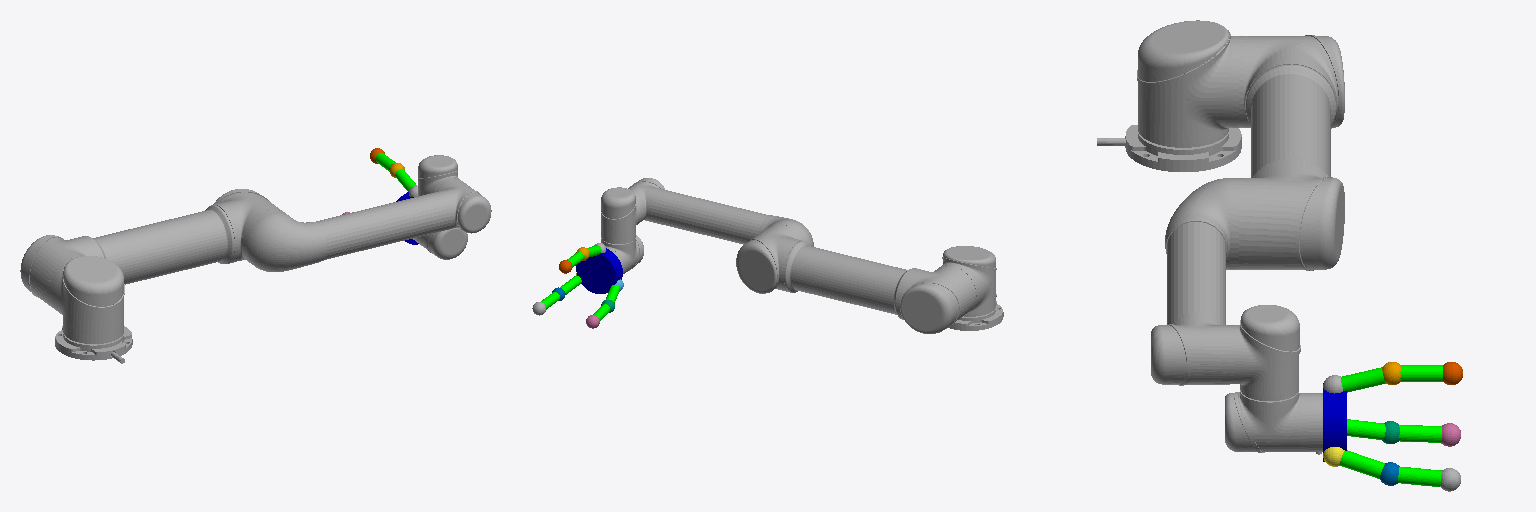
robot.urdf — ur5_3f2j:
<?xml version='1.0' encoding='UTF-8'?>
<robot name="ur5_3f2j">
  <link name="base_link">
    <inertial>
      <origin xyz="0.0 0.0 0.0" rpy="0.0 0.0 0.0"/>
      <mass value="4.0"/>
      <inertia ixx="0.00443333156" ixy="0.0" ixz="0.0" iyy="0.00443333156" iyz="0.0" izz="0.0072"/>
    </inertial>
    <visual>
      <geometry>
        <mesh filename="meshes/ur5/visual/base.obj"/>
      </geometry>
      <material name="LightGrey"/>
      <origin xyz="0.0 0.0 0.0" rpy="0.0 -0.0 0.0"/>
    </visual>
    <collision>
      <geometry>
        <mesh filename="meshes/ur5/collision/base.stl"/>
      </geometry>
      <origin xyz="0.0 0.0 0.0" rpy="0.0 -0.0 0.0"/>
    </collision>
  </link>
  <link name="shoulder_link">
    <inertial>
      <origin xyz="0.0 0.0 0.0" rpy="0.0 0.0 0.0"/>
      <mass value="3.7"/>
      <inertia ixx="0.010267495893" ixy="0.0" ixz="0.0" iyy="0.010267495893" iyz="0.0" izz="0.00666"/>
    </inertial>
    <visual>
      <geometry>
        <mesh filename="meshes/ur5/visual/shoulder.obj"/>
      </geometry>
      <material name="LightGrey"/>
      <origin xyz="0.0 0.0 0.0" rpy="0.0 -0.0 0.0"/>
    </visual>
    <collision>
      <geometry>
        <mesh filename="meshes/ur5/collision/shoulder.stl"/>
      </geometry>
      <origin xyz="0.0 0.0 0.0" rpy="0.0 -0.0 0.0"/>
    </collision>
  </link>
  <link name="upper_arm_link">
    <inertial>
      <origin xyz="0.0 0.0 0.28" rpy="0.0 0.0 0.0"/>
      <mass value="8.393"/>
      <inertia ixx="0.22689067591" ixy="0.0" ixz="0.0" iyy="0.22689067591" iyz="0.0" izz="0.0151074"/>
    </inertial>
    <visual>
      <geometry>
        <mesh filename="meshes/ur5/visual/upperarm.obj"/>
      </geometry>
      <material name="LightGrey"/>
      <origin xyz="0.0 0.0 0.0" rpy="0.0 -0.0 0.0"/>
    </visual>
    <collision>
      <geometry>
        <mesh filename="meshes/ur5/collision/upperarm.stl"/>
      </geometry>
      <origin xyz="0.0 0.0 0.0" rpy="0.0 -0.0 0.0"/>
    </collision>
  </link>
  <link name="forearm_link">
    <inertial>
      <origin xyz="0.0 0.0 0.25" rpy="0.0 0.0 0.0"/>
      <mass value="2.275"/>
      <inertia ixx="0.049443313556" ixy="0.0" ixz="0.0" iyy="0.049443313556" iyz="0.0" izz="0.004095"/>
    </inertial>
    <visual>
      <geometry>
        <mesh filename="meshes/ur5/visual/forearm.obj"/>
      </geometry>
      <material name="LightGrey"/>
      <origin xyz="0.0 0.0 0.0" rpy="0.0 -0.0 0.0"/>
    </visual>
    <collision>
      <geometry>
        <mesh filename="meshes/ur5/collision/forearm.stl"/>
      </geometry>
      <origin xyz="0.0 0.0 0.0" rpy="0.0 -0.0 0.0"/>
    </collision>
  </link>
  <link name="wrist_1_link">
    <inertial>
      <origin xyz="0.0 0.0 0.0" rpy="0.0 0.0 0.0"/>
      <mass value="1.219"/>
      <inertia ixx="0.111172755531" ixy="0.0" ixz="0.0" iyy="0.111172755531" iyz="0.0" izz="0.21942"/>
    </inertial>
    <visual>
      <geometry>
        <mesh filename="meshes/ur5/visual/wrist1.obj"/>
      </geometry>
      <material name="LightGrey"/>
      <origin xyz="0.0 0.0 0.0" rpy="0.0 -0.0 0.0"/>
    </visual>
    <collision>
      <geometry>
        <mesh filename="meshes/ur5/collision/wrist1.stl"/>
      </geometry>
      <origin xyz="0.0 0.0 0.0" rpy="0.0 -0.0 0.0"/>
    </collision>
  </link>
  <link name="wrist_2_link">
    <inertial>
      <origin xyz="0.0 0.0 0.0" rpy="0.0 0.0 0.0"/>
      <mass value="1.219"/>
      <inertia ixx="0.111172755531" ixy="0.0" ixz="0.0" iyy="0.111172755531" iyz="0.0" izz="0.21942"/>
    </inertial>
    <visual>
      <geometry>
        <mesh filename="meshes/ur5/visual/wrist2.obj"/>
      </geometry>
      <material name="LightGrey"/>
      <origin xyz="0.0 0.0 0.0" rpy="0.0 -0.0 0.0"/>
    </visual>
    <collision>
      <geometry>
        <mesh filename="meshes/ur5/collision/wrist2.stl"/>
      </geometry>
      <origin xyz="0.0 0.0 0.0" rpy="0.0 -0.0 0.0"/>
    </collision>
  </link>
  <link name="wrist_3_link">
    <inertial>
      <origin xyz="0.0 0.0 0.0" rpy="0.0 0.0 0.0"/>
      <mass value="0.1879"/>
      <inertia ixx="0.0171364731454" ixy="0.0" ixz="0.0" iyy="0.0171364731454" iyz="0.0" izz="0.033822"/>
    </inertial>
    <visual>
      <geometry>
        <mesh filename="meshes/ur5/visual/wrist3.obj"/>
      </geometry>
      <material name="LightGrey"/>
      <origin xyz="0.0 0.0 0.0" rpy="0.0 -0.0 0.0"/>
    </visual>
    <collision>
      <geometry>
        <mesh filename="meshes/ur5/collision/wrist3.stl"/>
      </geometry>
      <origin xyz="0.0 0.0 0.0" rpy="0.0 -0.0 0.0"/>
    </collision>
  </link>
  <link name="ee_link">
    <inertial>
      <origin xyz="0.0 0.0 0.0" rpy="0.0 0.0 0.0"/>
      <mass value="0.0"/>
      <inertia ixx="0.0" ixy="0.0" ixz="0.0" iyy="0.0" iyz="0.0" izz="0.0"/>
    </inertial>
    <collision>
      <geometry>
        <box size="0.01 0.01 0.01"/>
      </geometry>
      <origin xyz="-0.01 0.0 0.0" rpy="0.0 0.0 0.0"/>
    </collision>
  </link>
  <link name="palm">
    <inertial>
      <origin xyz="0.0 0.0 0.0" rpy="0.0 -0.0 0.0"/>
      <mass value="1.0"/>
      <inertia ixx="1.0" ixy="0.0" ixz="0.0" iyy="1.0" iyz="0.0" izz="1.0"/>
    </inertial>
    <visual>
      <geometry>
        <cylinder radius="0.05" length="0.03"/>
      </geometry>
      <material name="blue"/>
      <origin xyz="0.0 0.0 0.0" rpy="0.0 -0.0 0.0"/>
    </visual>
    <collision>
      <geometry>
        <cylinder radius="0.05" length="0.03"/>
      </geometry>
      <origin xyz="0.0 0.0 0.0" rpy="0.0 0.0 0.0"/>
    </collision>
  </link>
  <link name="f11">
    <inertial>
      <origin xyz="0.0 0.0 0.0" rpy="0.0 -0.0 0.0"/>
      <mass value="1.0"/>
      <inertia ixx="1.0" ixy="0.0" ixz="0.0" iyy="1.0" iyz="0.0" izz="1.0"/>
    </inertial>
    <visual>
      <geometry>
        <cylinder radius="0.01068100461919942" length="0.075"/>
      </geometry>
      <material name="green"/>
      <origin xyz="0.0 0.0 0.0375" rpy="0.0 -0.0 0.0"/>
    </visual>
    <collision>
      <geometry>
        <cylinder radius="0.01068100461919942" length="0.075"/>
      </geometry>
      <origin xyz="0.0 0.0 0.025" rpy="0.0 0.0 0.0"/>
    </collision>
  </link>
  <link name="f12">
    <inertial>
      <origin xyz="0.0 0.0 0.0" rpy="0.0 -0.0 0.0"/>
      <mass value="1.0"/>
      <inertia ixx="1.0" ixy="0.0" ixz="0.0" iyy="1.0" iyz="0.0" izz="1.0"/>
    </inertial>
    <visual>
      <geometry>
        <cylinder radius="0.01068100461919942" length="0.075"/>
      </geometry>
      <material name="green"/>
      <origin xyz="0.0 0.0 0.0375" rpy="0.0 -0.0 0.0"/>
    </visual>
    <collision>
      <geometry>
        <cylinder radius="0.01068100461919942" length="0.075"/>
      </geometry>
      <origin xyz="0.0 0.0 0.025" rpy="0.0 0.0 0.0"/>
    </collision>
  </link>
  <link name="f21">
    <inertial>
      <origin xyz="0.0 0.0 0.0" rpy="0.0 -0.0 0.0"/>
      <mass value="1.0"/>
      <inertia ixx="1.0" ixy="0.0" ixz="0.0" iyy="1.0" iyz="0.0" izz="1.0"/>
    </inertial>
    <visual>
      <geometry>
        <cylinder radius="0.01068100461919942" length="0.075"/>
      </geometry>
      <material name="green"/>
      <origin xyz="0.0 0.0 0.0375" rpy="0.0 -0.0 0.0"/>
    </visual>
    <collision>
      <geometry>
        <cylinder radius="0.01068100461919942" length="0.075"/>
      </geometry>
      <origin xyz="0.0 0.0 0.025" rpy="0.0 0.0 0.0"/>
    </collision>
  </link>
  <link name="f22">
    <inertial>
      <origin xyz="0.0 0.0 0.0" rpy="0.0 -0.0 0.0"/>
      <mass value="1.0"/>
      <inertia ixx="1.0" ixy="0.0" ixz="0.0" iyy="1.0" iyz="0.0" izz="1.0"/>
    </inertial>
    <visual>
      <geometry>
        <cylinder radius="0.01068100461919942" length="0.075"/>
      </geometry>
      <material name="green"/>
      <origin xyz="0.0 0.0 0.0375" rpy="0.0 -0.0 0.0"/>
    </visual>
    <collision>
      <geometry>
        <cylinder radius="0.01068100461919942" length="0.075"/>
      </geometry>
      <origin xyz="0.0 0.0 0.025" rpy="0.0 0.0 0.0"/>
    </collision>
  </link>
  <link name="f31">
    <inertial>
      <origin xyz="0.0 0.0 0.0" rpy="0.0 -0.0 0.0"/>
      <mass value="1.0"/>
      <inertia ixx="1.0" ixy="0.0" ixz="0.0" iyy="1.0" iyz="0.0" izz="1.0"/>
    </inertial>
    <visual>
      <geometry>
        <cylinder radius="0.01068100461919942" length="0.075"/>
      </geometry>
      <material name="green"/>
      <origin xyz="0.0 0.0 0.0375" rpy="0.0 -0.0 0.0"/>
    </visual>
    <collision>
      <geometry>
        <cylinder radius="0.01068100461919942" length="0.075"/>
      </geometry>
      <origin xyz="0.0 0.0 0.025" rpy="0.0 0.0 0.0"/>
    </collision>
  </link>
  <link name="f32">
    <inertial>
      <origin xyz="0.0 0.0 0.0" rpy="0.0 -0.0 0.0"/>
      <mass value="1.0"/>
      <inertia ixx="1.0" ixy="0.0" ixz="0.0" iyy="1.0" iyz="0.0" izz="1.0"/>
    </inertial>
    <visual>
      <geometry>
        <cylinder radius="0.01068100461919942" length="0.075"/>
      </geometry>
      <material name="green"/>
      <origin xyz="0.0 0.0 0.0375" rpy="0.0 -0.0 0.0"/>
    </visual>
    <collision>
      <geometry>
        <cylinder radius="0.01068100461919942" length="0.075"/>
      </geometry>
      <origin xyz="0.0 0.0 0.025" rpy="0.0 0.0 0.0"/>
    </collision>
  </link>
  <link name="f11_base">
    <inertial>
      <origin xyz="0.0 0.0 0.0" rpy="0.0 0.0 0.0"/>
      <mass value="0.01"/>
      <inertia ixx="0.0" ixy="0.0" ixz="0.0" iyy="0.0" iyz="0.0" izz="0.0"/>
    </inertial>
    <visual>
      <geometry>
        <sphere radius="0.015"/>
      </geometry>
      <origin xyz="0.0 0.0 0.0" rpy="0.0 -0.0 0.0"/>
    </visual>
  </link>
  <link name="f12_slot">
    <inertial>
      <origin xyz="0.0 0.0 0.0" rpy="0.0 0.0 0.0"/>
      <mass value="0.01"/>
      <inertia ixx="0.0" ixy="0.0" ixz="0.0" iyy="0.0" iyz="0.0" izz="0.0"/>
    </inertial>
    <visual>
      <geometry>
        <sphere radius="0.015"/>
      </geometry>
      <origin xyz="0.0 0.0 0.0" rpy="0.0 -0.0 0.0"/>
    </visual>
  </link>
  <link name="f21_base">
    <inertial>
      <origin xyz="0.0 0.0 0.0" rpy="0.0 0.0 0.0"/>
      <mass value="0.01"/>
      <inertia ixx="0.0" ixy="0.0" ixz="0.0" iyy="0.0" iyz="0.0" izz="0.0"/>
    </inertial>
    <visual>
      <geometry>
        <sphere radius="0.015"/>
      </geometry>
      <origin xyz="0.0 0.0 0.0" rpy="0.0 -0.0 0.0"/>
    </visual>
  </link>
  <link name="f22_slot">
    <inertial>
      <origin xyz="0.0 0.0 0.0" rpy="0.0 0.0 0.0"/>
      <mass value="0.01"/>
      <inertia ixx="0.0" ixy="0.0" ixz="0.0" iyy="0.0" iyz="0.0" izz="0.0"/>
    </inertial>
    <visual>
      <geometry>
        <sphere radius="0.015"/>
      </geometry>
      <origin xyz="0.0 0.0 0.0" rpy="0.0 -0.0 0.0"/>
    </visual>
  </link>
  <link name="f31_base">
    <inertial>
      <origin xyz="0.0 0.0 0.0" rpy="0.0 0.0 0.0"/>
      <mass value="0.0"/>
      <inertia ixx="0.0" ixy="0.0" ixz="0.0" iyy="0.0" iyz="0.0" izz="0.0"/>
    </inertial>
    <visual>
      <geometry>
        <sphere radius="0.015"/>
      </geometry>
      <origin xyz="0.0 0.0 0.0" rpy="0.0 -0.0 0.0"/>
    </visual>
  </link>
  <link name="f32_slot">
    <inertial>
      <origin xyz="0.0 0.0 0.0" rpy="0.0 0.0 0.0"/>
      <mass value="0.0"/>
      <inertia ixx="0.0" ixy="0.0" ixz="0.0" iyy="0.0" iyz="0.0" izz="0.0"/>
    </inertial>
    <visual>
      <geometry>
        <sphere radius="0.015"/>
      </geometry>
      <origin xyz="0.0 0.0 0.0" rpy="0.0 -0.0 0.0"/>
    </visual>
  </link>
  <link name="f13_slot">
    <inertial>
      <origin xyz="0.0 0.0 0.0" rpy="0.0 0.0 0.0"/>
      <mass value="0.0"/>
      <inertia ixx="0.0" ixy="0.0" ixz="0.0" iyy="0.0" iyz="0.0" izz="0.0"/>
    </inertial>
    <visual>
      <geometry>
        <sphere radius="0.015"/>
      </geometry>
      <origin xyz="0.0 0.0 0.0" rpy="0.0 -0.0 0.0"/>
    </visual>
  </link>
  <link name="f23_slot">
    <inertial>
      <origin xyz="0.0 0.0 0.0" rpy="0.0 0.0 0.0"/>
      <mass value="0.0"/>
      <inertia ixx="0.0" ixy="0.0" ixz="0.0" iyy="0.0" iyz="0.0" izz="0.0"/>
    </inertial>
    <visual>
      <geometry>
        <sphere radius="0.015"/>
      </geometry>
      <origin xyz="0.0 0.0 0.0" rpy="0.0 -0.0 0.0"/>
    </visual>
  </link>
  <link name="f33_slot">
    <inertial>
      <origin xyz="0.0 0.0 0.0" rpy="0.0 0.0 0.0"/>
      <mass value="0.0"/>
      <inertia ixx="0.0" ixy="0.0" ixz="0.0" iyy="0.0" iyz="0.0" izz="0.0"/>
    </inertial>
    <visual>
      <geometry>
        <sphere radius="0.015"/>
      </geometry>
      <origin xyz="0.0 0.0 0.0" rpy="0.0 -0.0 0.0"/>
    </visual>
  </link>
  <joint name="shoulder_pan_joint" type="revolute">
    <dynamics damping="0.0" friction="0.0"/>
    <limit effort="150.0" velocity="3.15" lower="-3.14159265359" upper="3.14159265359"/>
    <parent link="base_link"/>
    <child link="shoulder_link"/>
    <axis xyz="0. 0. 1."/>
    <origin xyz="0.0 0.0 0.089159" rpy="0.0 0.0 0.0"/>
  </joint>
  <joint name="shoulder_lift_joint" type="revolute">
    <dynamics damping="0.0" friction="0.0"/>
    <limit effort="150.0" velocity="3.15" lower="-3.14159265359" upper="3.14159265359"/>
    <parent link="shoulder_link"/>
    <child link="upper_arm_link"/>
    <axis xyz="0. 1. 0."/>
    <origin xyz="0.0 0.13585 0.0" rpy="0.0 1.5707963267948966 0.0"/>
  </joint>
  <joint name="elbow_joint" type="revolute">
    <dynamics damping="0.0" friction="0.0"/>
    <limit effort="150.0" velocity="3.15" lower="-3.14159265359" upper="3.14159265359"/>
    <parent link="upper_arm_link"/>
    <child link="forearm_link"/>
    <axis xyz="0. 1. 0."/>
    <origin xyz="0.0 -0.1197 0.425" rpy="0.0 0.0 0.0"/>
  </joint>
  <joint name="wrist_1_joint" type="revolute">
    <dynamics damping="0.0" friction="0.0"/>
    <limit effort="28.0" velocity="3.2" lower="-6.28318530718" upper="6.28318530718"/>
    <parent link="forearm_link"/>
    <child link="wrist_1_link"/>
    <axis xyz="0. 1. 0."/>
    <origin xyz="0.0 0.0 0.39225" rpy="0.0 1.5707963267948966 0.0"/>
  </joint>
  <joint name="wrist_2_joint" type="revolute">
    <dynamics damping="0.0" friction="0.0"/>
    <limit effort="28.0" velocity="3.2" lower="-6.28318530718" upper="6.28318530718"/>
    <parent link="wrist_1_link"/>
    <child link="wrist_2_link"/>
    <axis xyz="0. 0. 1."/>
    <origin xyz="0.0 0.093 0.0" rpy="0.0 0.0 0.0"/>
  </joint>
  <joint name="wrist_3_joint" type="revolute">
    <dynamics damping="0.0" friction="0.0"/>
    <limit effort="28.0" velocity="3.2" lower="-6.28318530718" upper="6.28318530718"/>
    <parent link="wrist_2_link"/>
    <child link="wrist_3_link"/>
    <axis xyz="0. 1. 0."/>
    <origin xyz="0.0 0.0 0.09465" rpy="0.0 0.0 0.0"/>
  </joint>
  <joint name="ee_fixed_joint" type="fixed">
    <parent link="wrist_3_link"/>
    <child link="ee_link"/>
    <axis xyz="1. 0. 0."/>
    <origin xyz="0.0 0.0823 0.0" rpy="0.0 0.0 1.57079632679"/>
  </joint>
  <joint name="palm_ee_joint" type="fixed">
    <parent link="ee_link"/>
    <child link="palm"/>
    <axis xyz="1. 0. 0."/>
    <origin xyz="0.0 0.0 0.0" rpy="3.14 1.5699999999999876 3.14"/>
  </joint>
  <joint name="f11_joint" type="revolute">
    <dynamics damping="100.0" friction="1.0"/>
    <limit effort="30.0" velocity="2.0" lower="-0.4" upper="0.25"/>
    <parent link="f11_base"/>
    <child link="f11"/>
    <axis xyz="0. 1. 0."/>
    <origin xyz="0.0 0.0 0.0" rpy="0.0 0.25 0.0"/>
  </joint>
  <joint name="f12_joint" type="revolute">
    <dynamics damping="100.0" friction="1.0"/>
    <limit effort="30.0" velocity="2.0" lower="-0.4" upper="0.0"/>
    <mimic joint="f11_joint" multiplier="2.0" offset="-0.25"/>
    <parent link="f12_slot"/>
    <child link="f12"/>
    <axis xyz="0. 1. 0."/>
    <origin xyz="0.0 0.0 0.0" rpy="0.0 -0.0 0.0"/>
  </joint>
  <joint name="f21_joint" type="revolute">
    <dynamics damping="100.0" friction="1.0"/>
    <limit effort="30.0" velocity="2.0" lower="-0.4" upper="0.25"/>
    <parent link="f21_base"/>
    <child link="f21"/>
    <axis xyz=" 0.70710678 -0.70710678  0.        "/>
    <origin xyz="0.0 0.0 0.0" rpy="0.25 -0.25 0.0"/>
  </joint>
  <joint name="f22_joint" type="revolute">
    <dynamics damping="100.0" friction="1.0"/>
    <limit effort="30.0" velocity="2.0" lower="-0.4" upper="0.0"/>
    <mimic joint="f21_joint" multiplier="1.0" offset="-0.25"/>
    <parent link="f22_slot"/>
    <child link="f22"/>
    <axis xyz=" 0.70710678 -0.70710678  0.        "/>
    <origin xyz="0.0 0.0 0.0" rpy="0.0 -0.0 0.0"/>
  </joint>
  <joint name="f31_joint" type="revolute">
    <dynamics damping="100.0" friction="1.0"/>
    <limit effort="30.0" velocity="2.0" lower="-0.4" upper="0.25"/>
    <parent link="f31_base"/>
    <child link="f31"/>
    <axis xyz="-0.70710678 -0.70710678  0.        "/>
    <origin xyz="0.0 0.0 0.0" rpy="-0.25 -0.25 0.0"/>
  </joint>
  <joint name="f32_joint" type="revolute">
    <dynamics damping="100.0" friction="1.0"/>
    <limit effort="30.0" velocity="2.0" lower="-0.4" upper="0.0"/>
    <mimic joint="f31_joint" multiplier="1.0" offset="-0.25"/>
    <parent link="f32_slot"/>
    <child link="f32"/>
    <axis xyz="-0.70710678 -0.70710678  0.        "/>
    <origin xyz="0.0 0.0 0.0" rpy="0.0 0.0 0.0"/>
  </joint>
  <joint name="f11_base_joint" type="fixed">
    <parent link="palm"/>
    <child link="f11_base"/>
    <axis xyz="1. 0. 0."/>
    <origin xyz="0.05 0.0 0.0" rpy="0.0 0.0 0.0"/>
  </joint>
  <joint name="f12_slot_joint" type="fixed">
    <parent link="f11"/>
    <child link="f12_slot"/>
    <axis xyz="1. 0. 0."/>
    <origin xyz="0.0 0.0 0.075" rpy="0.0 0.0 0.0"/>
  </joint>
  <joint name="f21_base_joint" type="fixed">
    <parent link="palm"/>
    <child link="f21_base"/>
    <axis xyz="1. 0. 0."/>
    <origin xyz="-0.025 -0.043301270189222 0.0" rpy="0.0 0.0 0.0"/>
  </joint>
  <joint name="f22_slot_joint" type="fixed">
    <parent link="f21"/>
    <child link="f22_slot"/>
    <axis xyz="1. 0. 0."/>
    <origin xyz="0.0 0.0 0.075" rpy="0.0 0.0 0.0"/>
  </joint>
  <joint name="f31_base_joint" type="fixed">
    <parent link="palm"/>
    <child link="f31_base"/>
    <axis xyz="1. 0. 0."/>
    <origin xyz="-0.025 0.043301270189222 0.0" rpy="0.0 0.0 0.0"/>
  </joint>
  <joint name="f32_slot_joint" type="fixed">
    <parent link="f31"/>
    <child link="f32_slot"/>
    <axis xyz="1. 0. 0."/>
    <origin xyz="0.0 0.0 0.075" rpy="0.0 0.0 0.0"/>
  </joint>
  <joint name="f13_slot_joint" type="fixed">
    <parent link="f12"/>
    <child link="f13_slot"/>
    <axis xyz="1. 0. 0."/>
    <origin xyz="0.0 0.0 0.075" rpy="0.0 0.0 0.0"/>
  </joint>
  <joint name="f23_slot_joint" type="fixed">
    <parent link="f22"/>
    <child link="f23_slot"/>
    <axis xyz="1. 0. 0."/>
    <origin xyz="0.0 0.0 0.075" rpy="0.0 0.0 0.0"/>
  </joint>
  <joint name="f33_slot_joint" type="fixed">
    <parent link="f32"/>
    <child link="f33_slot"/>
    <axis xyz="1. 0. 0."/>
    <origin xyz="0.0 0.0 0.075" rpy="0.0 0.0 0.0"/>
  </joint>
  <material name="LightGrey">
    <color rgba="0.7 0.7 0.7 1. "/>
  </material>
  <material name="blue">
    <color rgba="0.  0.  0.8 1. "/>
  </material>
  <material name="green">
    <color rgba="0. 1. 0. 1."/>
  </material>
</robot>

--- Render facts (derived) ---
Views: 3 orthographic renders of the robot side by side, from view 1: azimuth 30°, elevation 25°; view 2: azimuth 150°, elevation 25°; view 3: azimuth 270°, elevation 25°.
Robot: ur5_3f2j — 24 links, 23 joints (12 revolute, 11 fixed); root link base_link; default pose: every joint at zero.
Links seen in each view (by area): view 1: upper_arm_link, forearm_link, shoulder_link, base_link, wrist_1_link, wrist_2_link; view 2: upper_arm_link, forearm_link, shoulder_link, wrist_1_link, palm, wrist_2_link, base_link; view 3: upper_arm_link, forearm_link, shoulder_link, wrist_1_link, wrist_2_link, base_link, palm, wrist_3_link, f32, f12, f22, f31 (+2 smaller).
Link boxes in pixels (box(x1,y1,x2,y2)): upper_arm_link: box(20, 189, 284, 307); forearm_link: box(243, 178, 491, 271); shoulder_link: box(49, 256, 124, 343); base_link: box(55, 326, 132, 363); wrist_1_link: box(418, 155, 458, 195); wrist_2_link: box(413, 228, 467, 259); upper_arm_link: box(736, 224, 975, 333); forearm_link: box(628, 178, 813, 246); shoulder_link: box(939, 246, 996, 316); wrist_1_link: box(601, 187, 643, 243); palm: box(576, 248, 622, 293); wrist_2_link: box(601, 235, 643, 273); base_link: box(949, 294, 1003, 330); upper_arm_link: box(1239, 35, 1344, 270); forearm_link: box(1151, 178, 1238, 385); shoulder_link: box(1137, 20, 1238, 147); wrist_1_link: box(1234, 305, 1300, 400); wrist_2_link: box(1225, 390, 1306, 452); base_link: box(1097, 125, 1241, 171); palm: box(1323, 383, 1346, 461); wrist_3_link: box(1307, 393, 1322, 454); f32: box(1398, 467, 1441, 486); f12: box(1400, 365, 1442, 381); f22: box(1399, 425, 1441, 442); f31: box(1340, 450, 1384, 478).
Bounding box of the posed robot: 0.9727 × 0.4641 × 0.2265 m (x, y, z).
7 mesh visuals loaded from 7 distinct referenced files (7 OBJ).